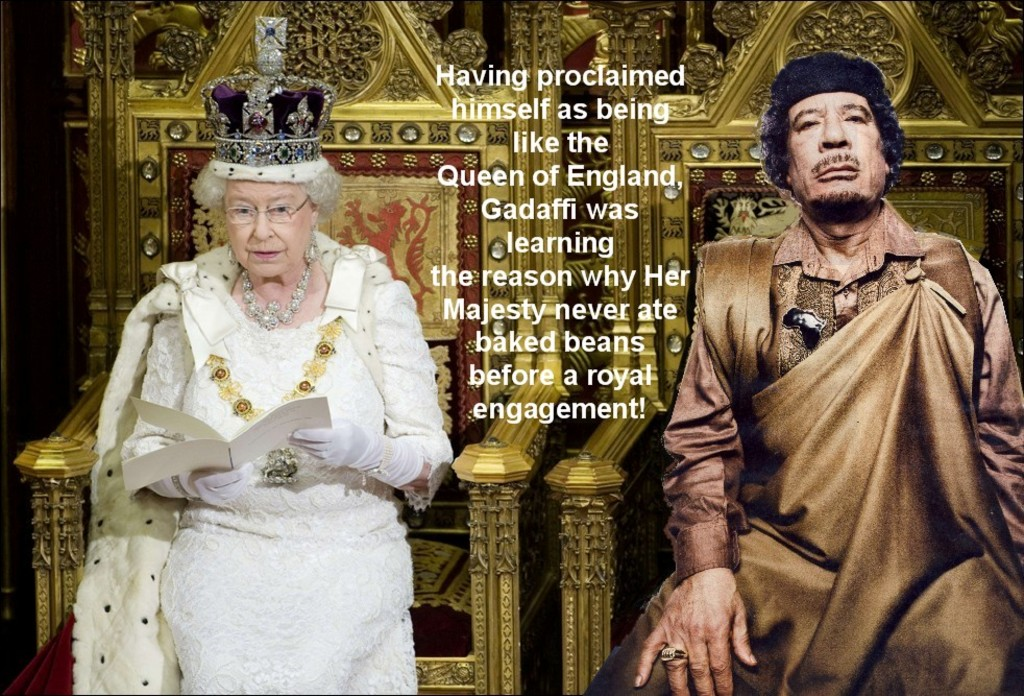Person: (583, 50, 1023, 696)
